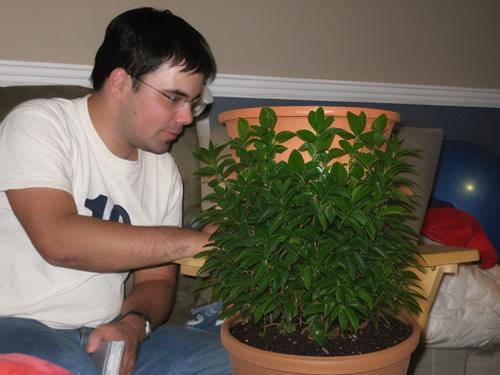person: (3, 4, 282, 373)
person/hand: (85, 311, 150, 375), (208, 212, 277, 260)
person/head: (97, 8, 218, 155)
pottedplant: (194, 103, 428, 375)
